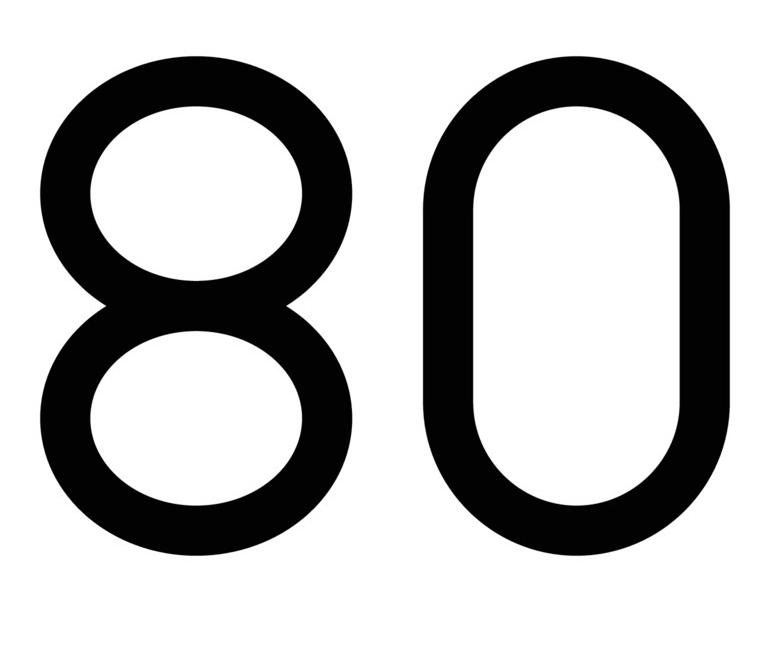Speed Limit -80-: (0, 1, 776, 647)
